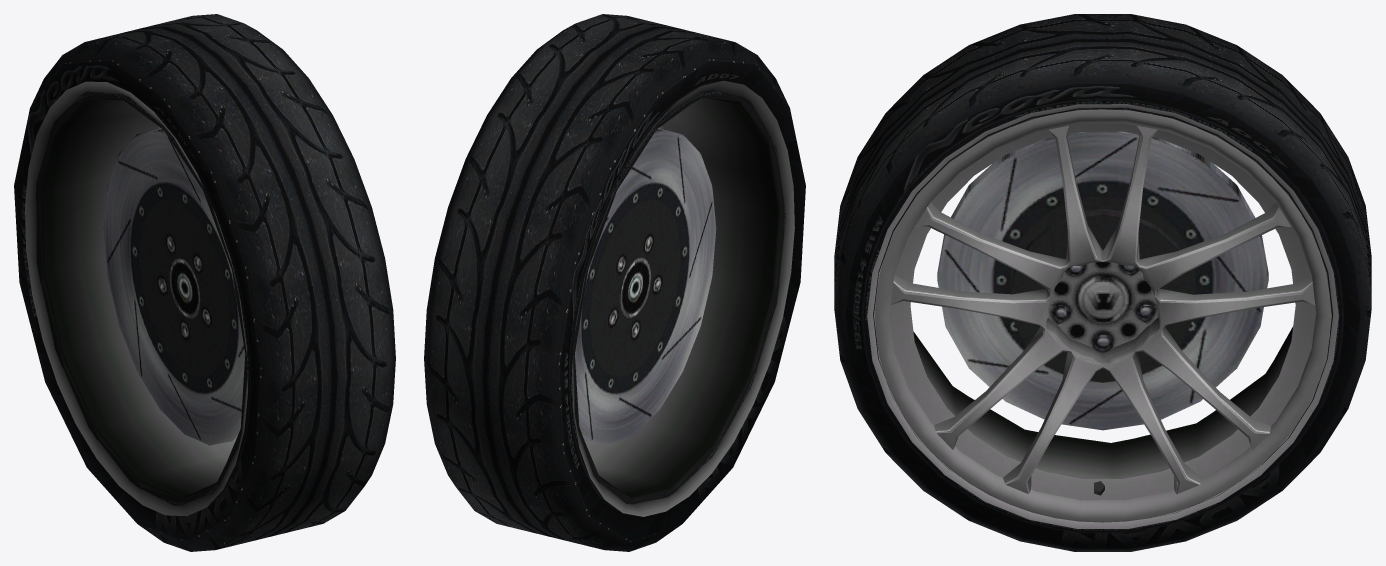
The model's file is wheel2.fbx.
The picture shows the model from 3 angles, left to right: view 1: azimuth 30°, elevation 25°; view 2: azimuth 150°, elevation 25°; view 3: azimuth 270°, elevation 25°; orthographic projection. The views are drawn at different scales.
Parts seen in each view (by area): view 1: wheel_LOD0; view 2: wheel_LOD0; view 3: wheel_LOD0.
Boxes of the visible parts, <box> form: wheel_LOD0: <box>14,14,395,551</box>; wheel_LOD0: <box>424,14,805,551</box>; wheel_LOD0: <box>834,14,1371,551</box>.
Size of the model in its own units: 30.44 by 101 by 101.
Materials: 3 (3 with a texture image).
